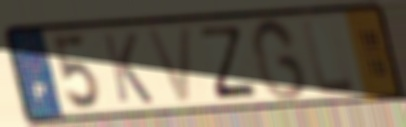5: (49, 31, 102, 112)
G: (248, 15, 311, 103)
K: (99, 31, 156, 106)
L: (299, 15, 359, 98)
V: (142, 23, 195, 108)
Z: (197, 25, 261, 102)
